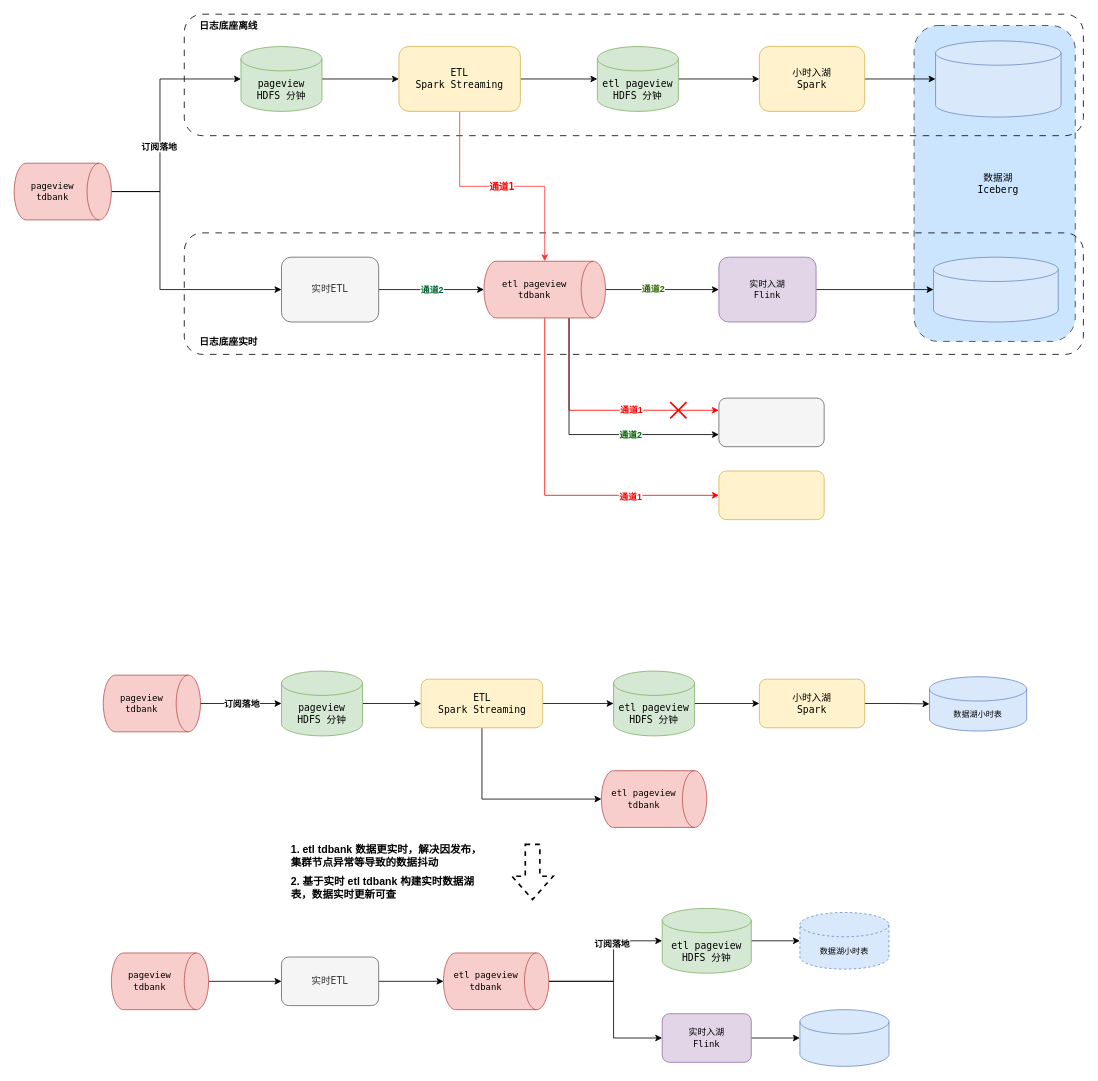
Image size: 1098x1081. Some labels were removed from this diagram. Each missing label, with the centre of its shape:
"etl_pageview_曝光 etl_pageview_点击 etl_pageview_转化" goes at (998,78).
"MP 归因" goes at (771,422).
"MP 报表 Spark Streaming" goes at (771,495).
"实时曝光 实时点击 实时转化" goes at (995,289).
"数据湖实时表" goes at (844,1037).
